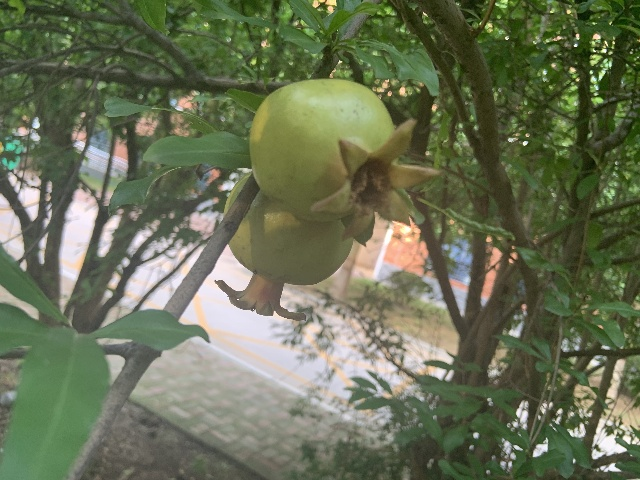mid-growth: (248, 78, 443, 243), (214, 172, 353, 320)
